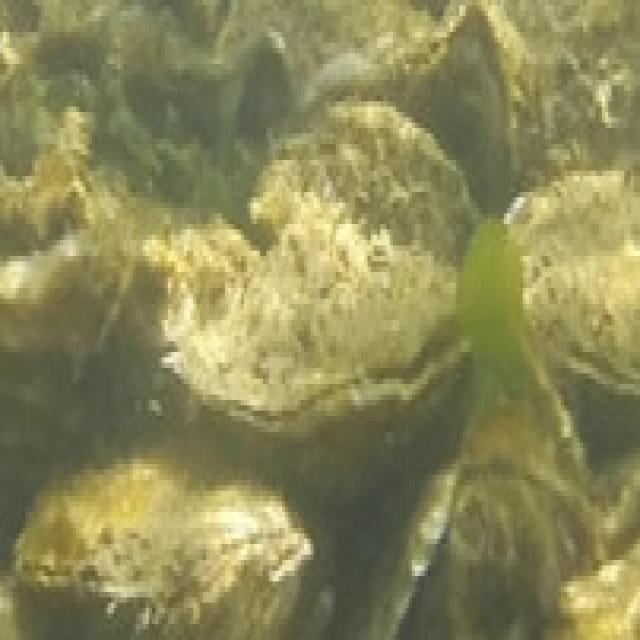Oyster-Closed: (166, 105, 480, 484), (508, 157, 640, 414), (344, 457, 463, 640)
Oyster-Indeterminate: (17, 441, 312, 640), (95, 224, 266, 445), (0, 238, 116, 537), (451, 8, 550, 215)
